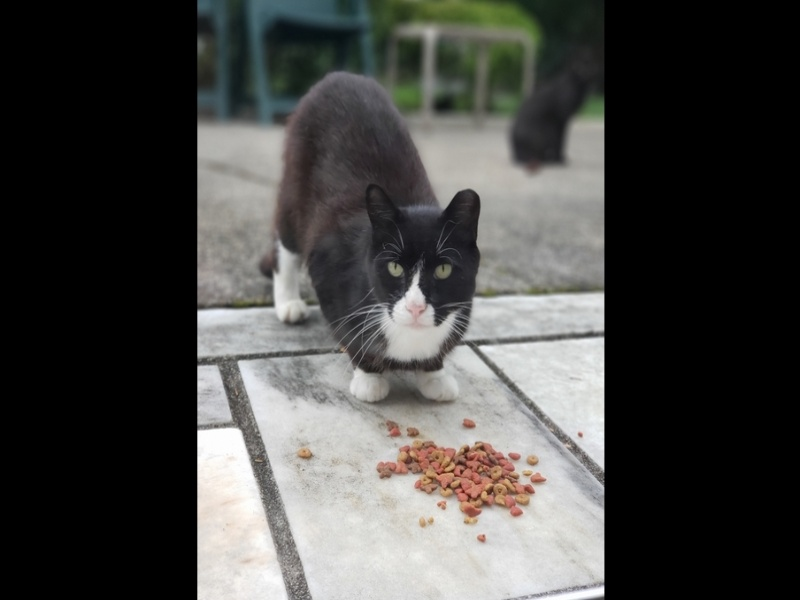cat: (250, 65, 485, 409), (506, 57, 596, 177)
